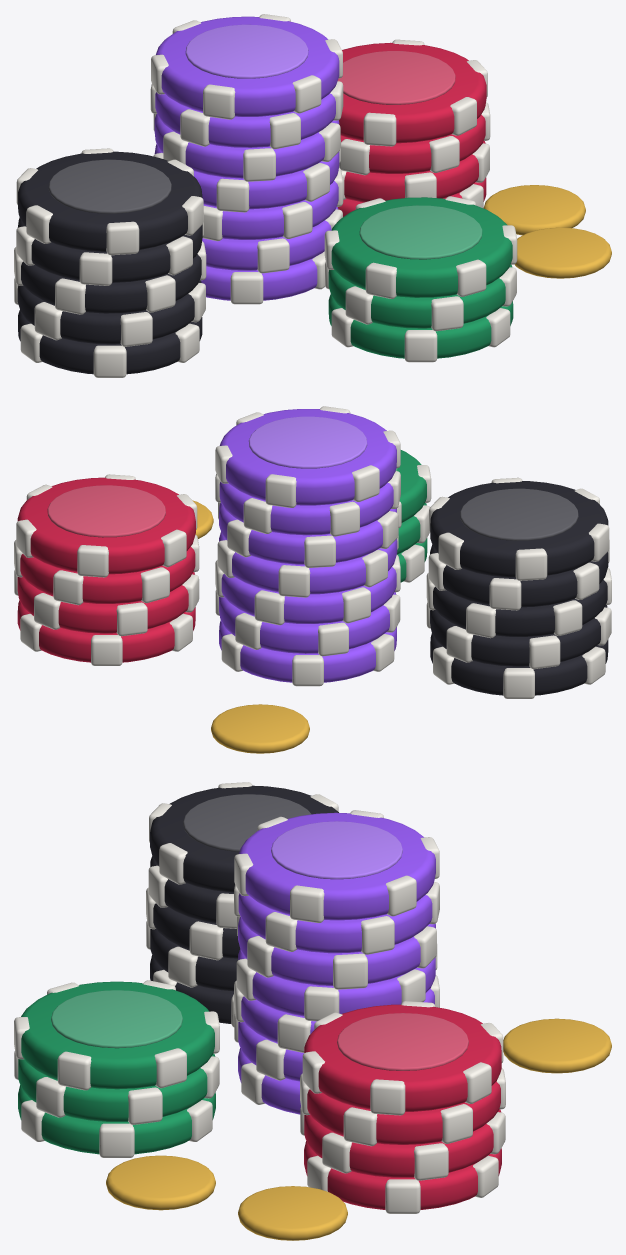
The model's file is casino_chips.fbx.
3 views of the same model, one above another, from view 1: azimuth 30°, elevation 25°; view 2: azimuth 150°, elevation 25°; view 3: azimuth 270°, elevation 25° (orthographic). The views are drawn at different scales.
Parts seen in each view (by area): view 1: casino_chips; view 2: casino_chips; view 3: casino_chips.
Boxes of the visible parts, bbox=[...] form: casino_chips: bbox=[14, 14, 611, 377]; casino_chips: bbox=[14, 406, 611, 753]; casino_chips: bbox=[14, 782, 611, 1240].
Bounding box in the file's own units: 0.3219 × 0.116 × 0.2718.
